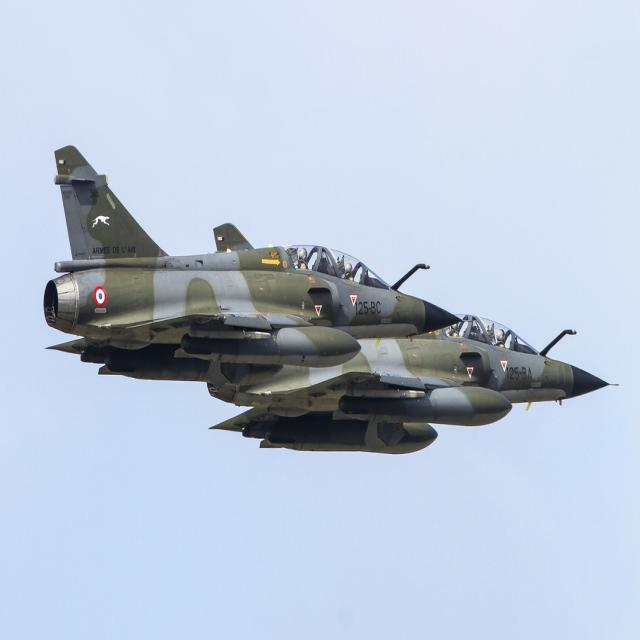MIL_Plane: (44, 144, 474, 388), (206, 223, 619, 455)
